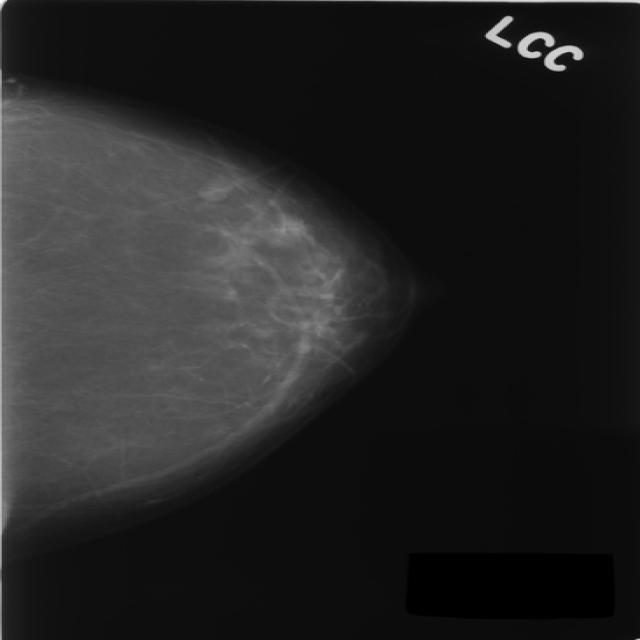tumour: (194, 176, 233, 201)
